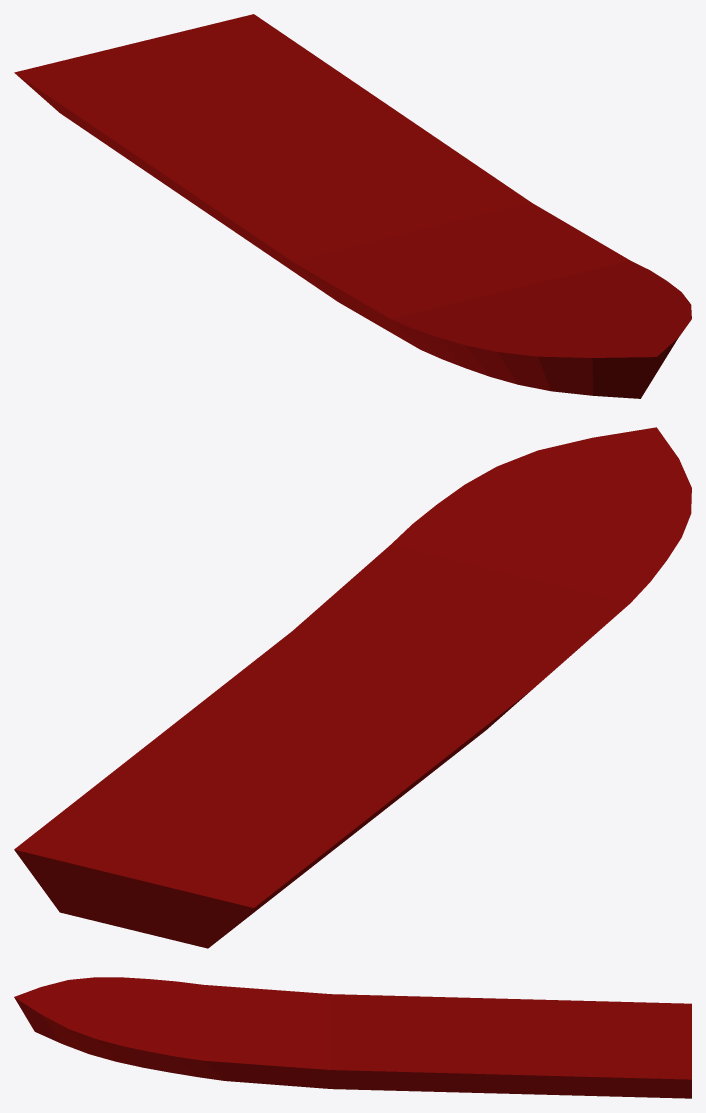
Rendered from Rojo5.fbx.
3 views of the same model, one above another, from view 1: azimuth 30°, elevation 25°; view 2: azimuth 150°, elevation 25°; view 3: azimuth 270°, elevation 25° (orthographic). The views are drawn at different scales.
Parts seen in each view (by area): view 1: Castillo_Rojo; view 2: Castillo_Rojo; view 3: Castillo_Rojo.
Part boxes in pixels (x1,y1,x2,y2): Castillo_Rojo: (14,14,691,398); Castillo_Rojo: (14,427,691,948); Castillo_Rojo: (14,977,691,1098).
Bounding box in the file's own units: 1.26 × 0.6069 × 4.77.
